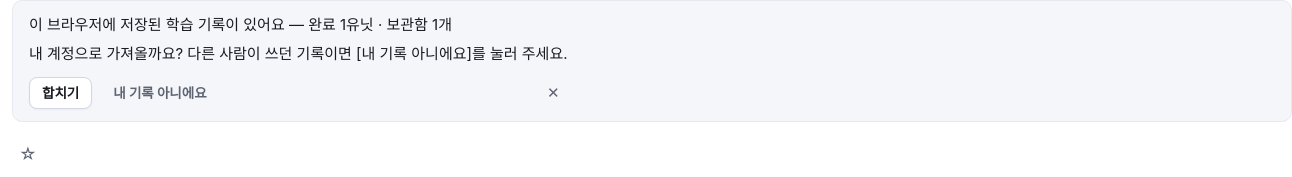
it: 병합 배너 3선택 (AC-G-07~11) › [내 기록 아니에요]는 서버를 부르지 않고 기록만 지운다 (AC-G-09)
The image size is (1292, 177).
Click the button "내 기록 아니에요" at (160, 93), box left=100, top=77, right=220, bottom=109
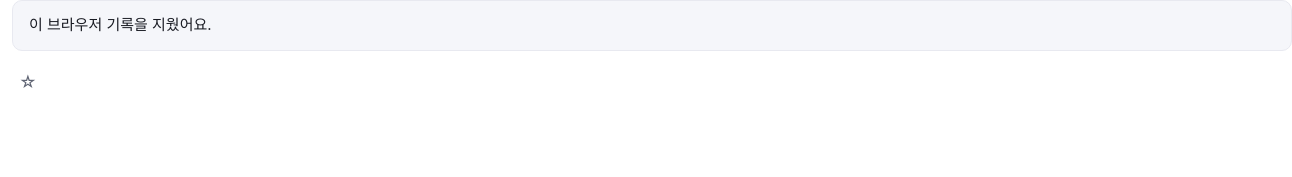
Now the text "이 브라우저 기록을 지웠어요." is shown, box left=12, top=0, right=1291, bottom=51
